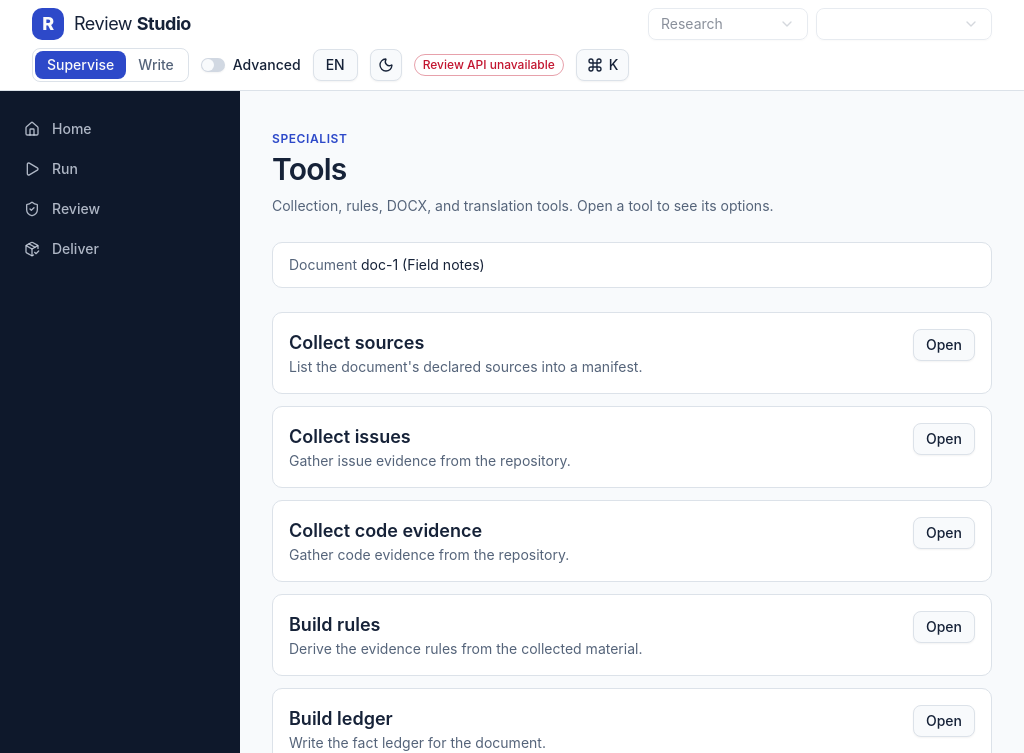
Scenario: tools area › collects sources for the current document and shows the written path
Click the button "Open" in the row of "Collect sources". click: (944, 345)
box: [913,329,975,361]
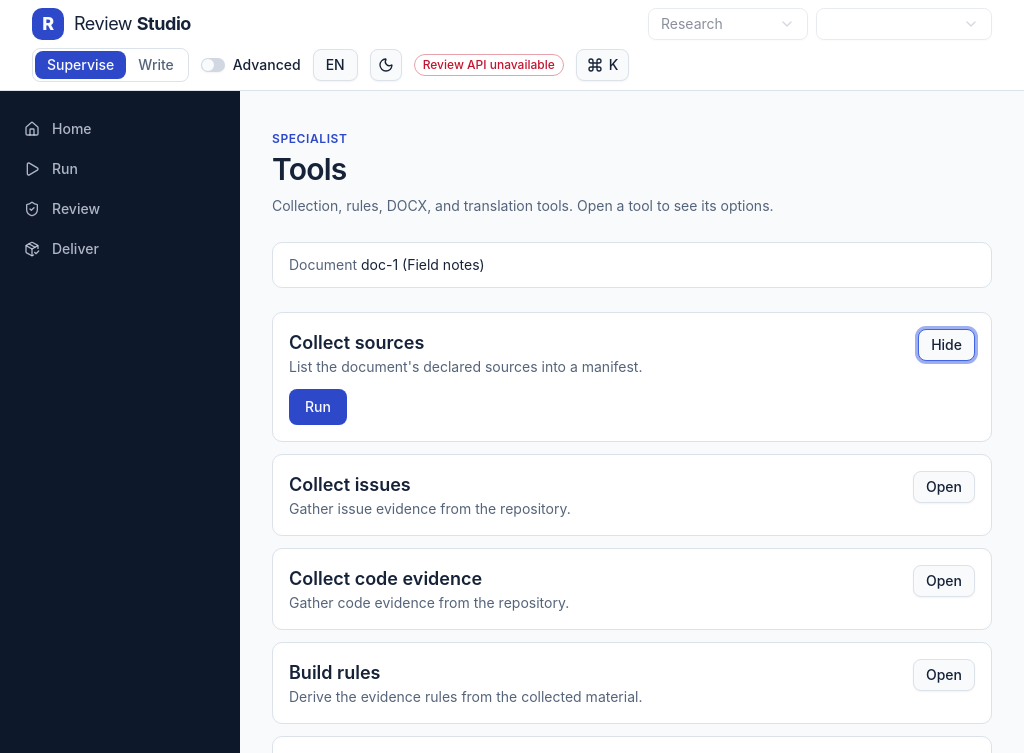
Click the button with aria-label "Run Collect sources". click: (318, 407)
box: [289,389,347,425]
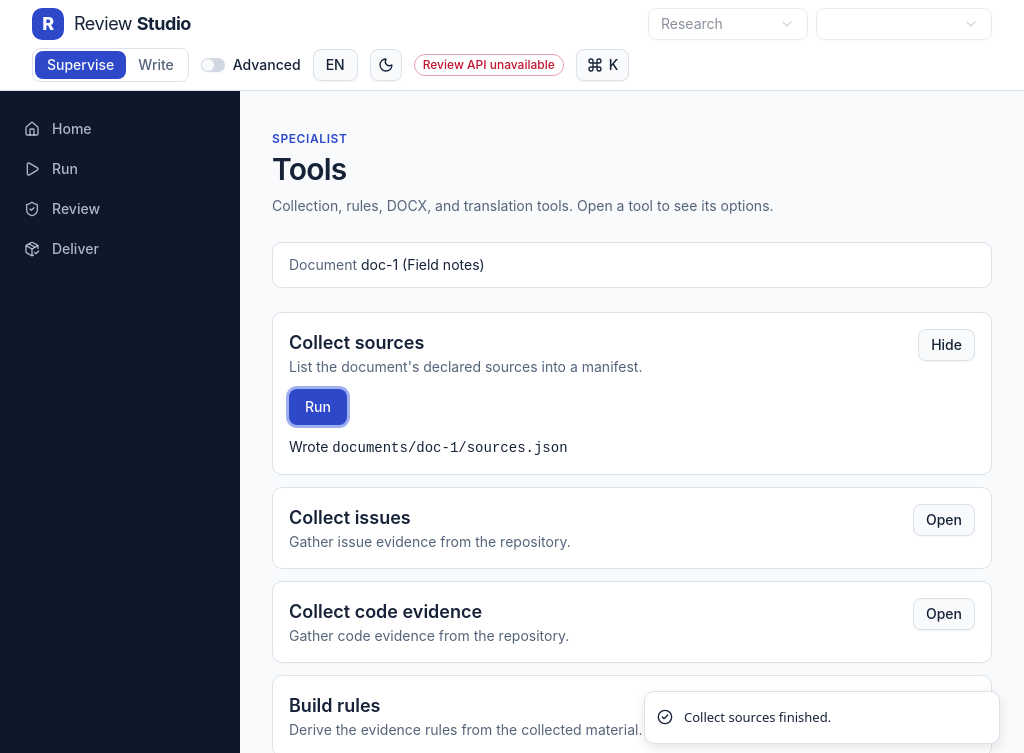
Expected: the message "Wrote documents/doc-1/sources.json" is shown, [289,438,568,456]
